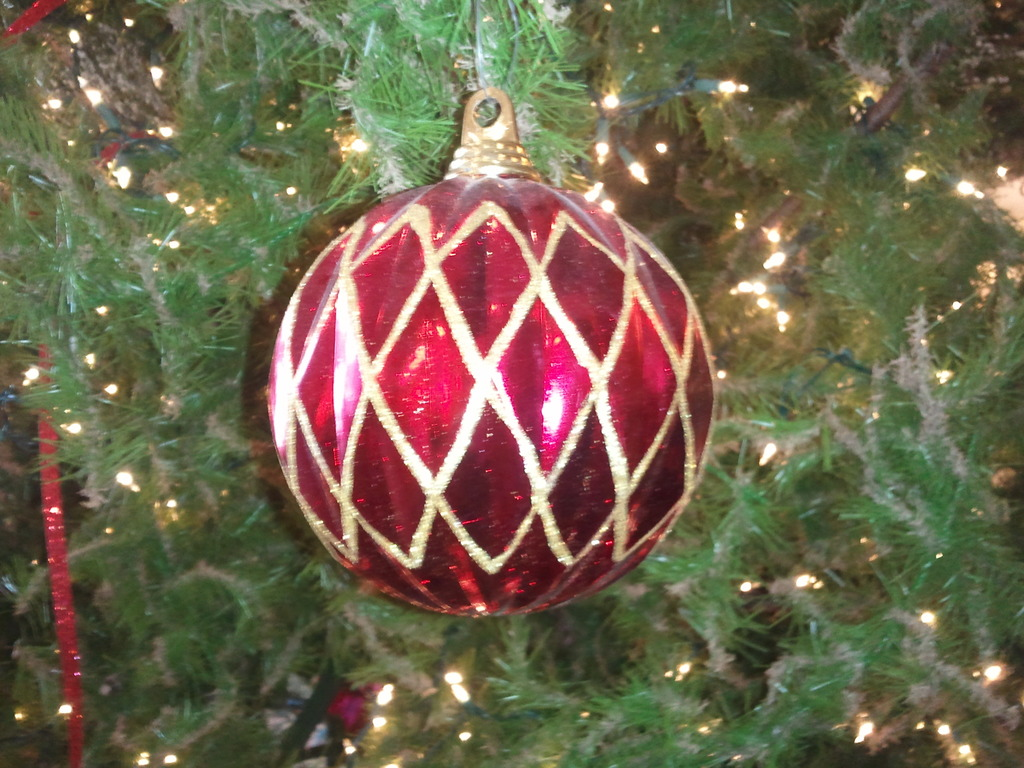Ball: (264, 82, 715, 616)
